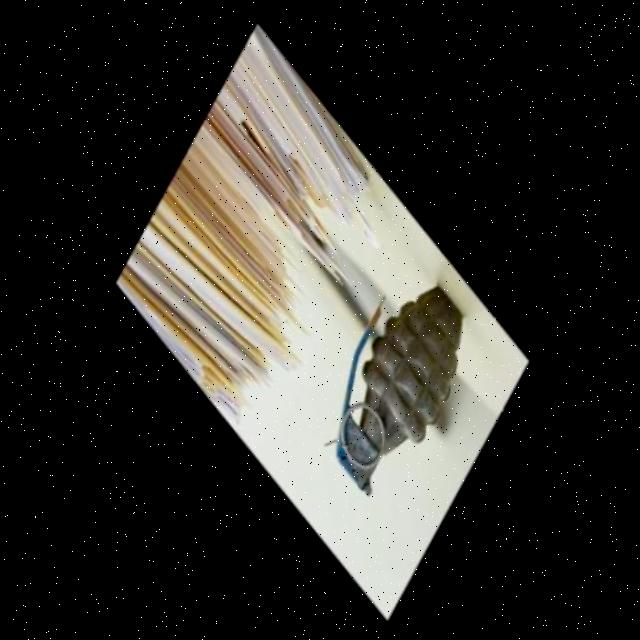grenade: (302, 273, 504, 524)
